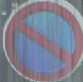No waiting: (5, 3, 78, 74)
